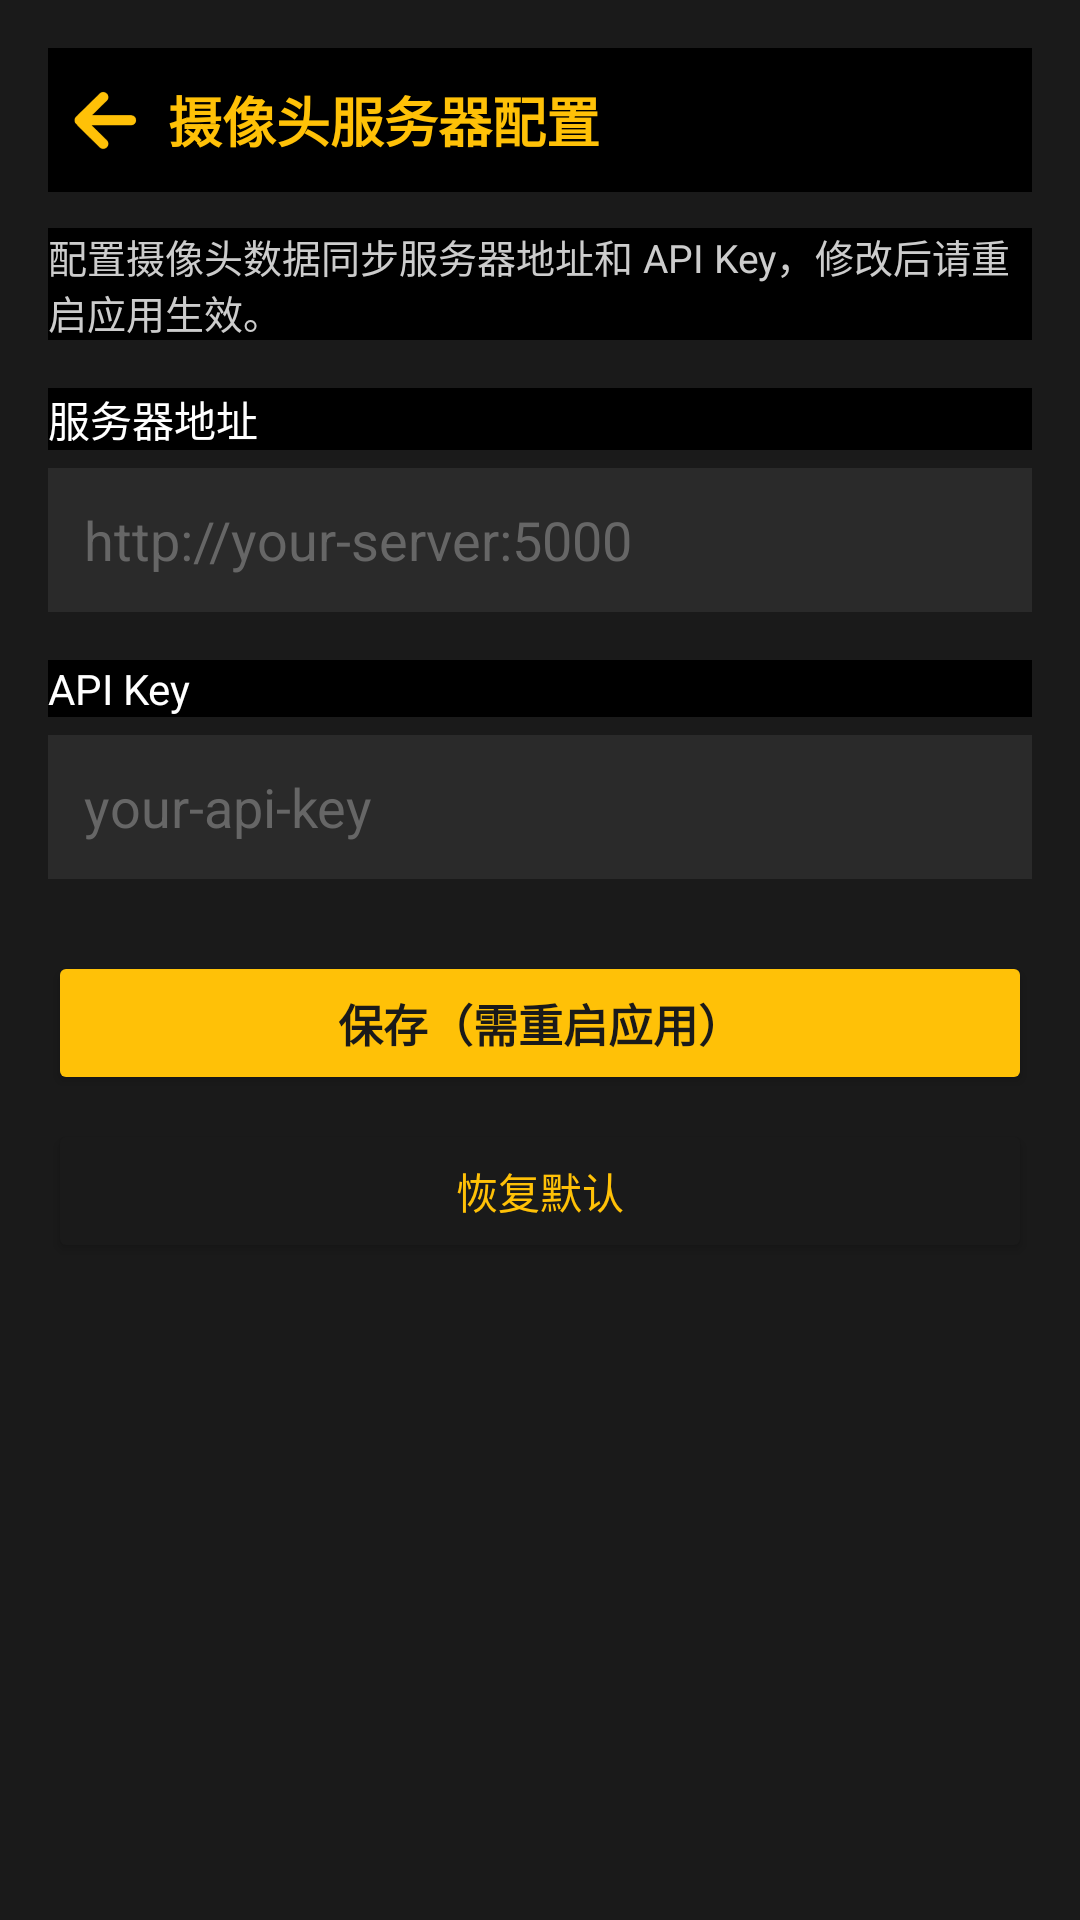

Icons on this 1080px×1920px Android screen, each with the point to tap as [x,y]:
qu appbar back: [105,120]
